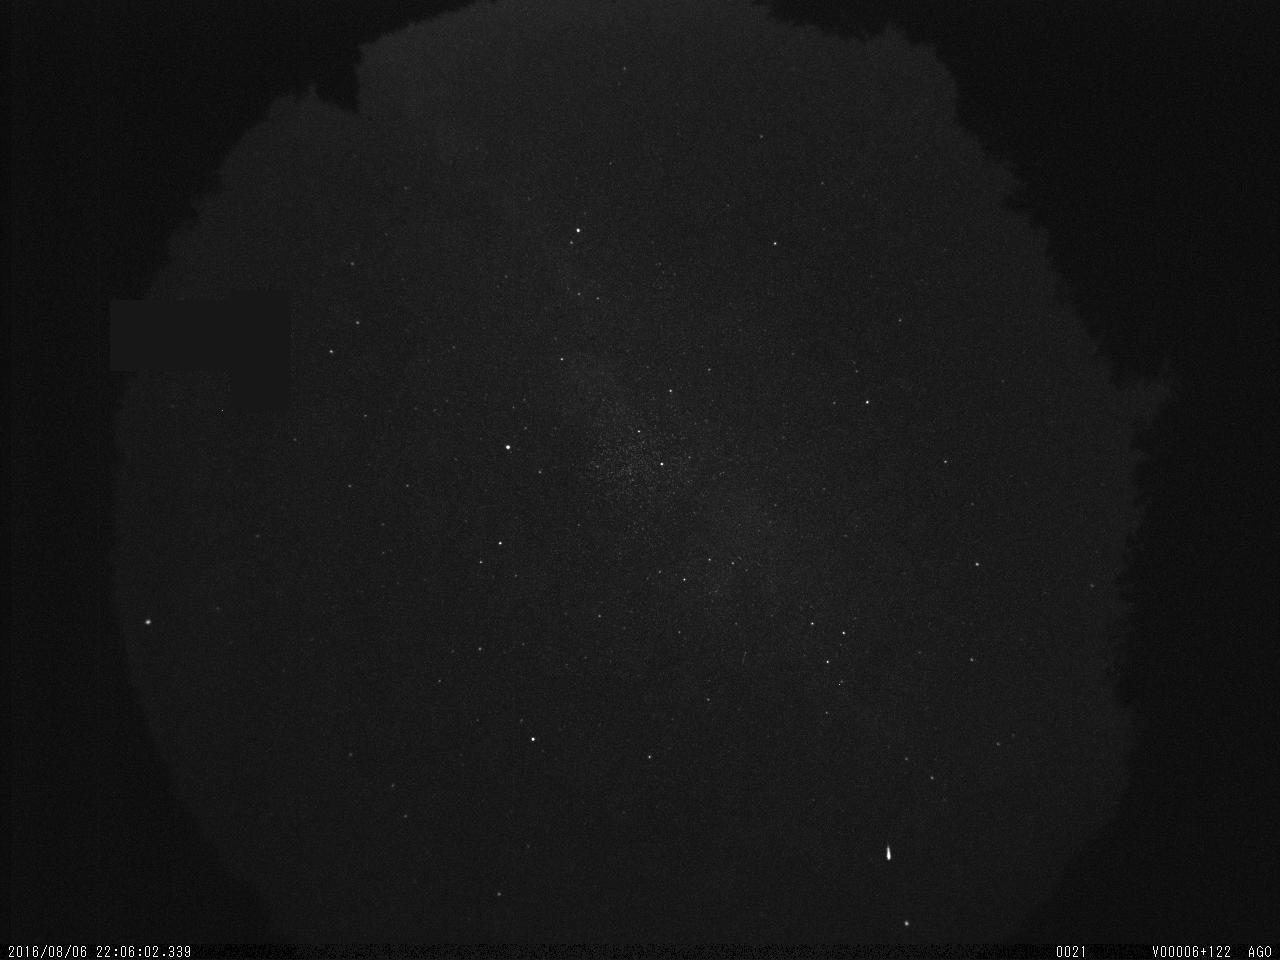meteor: (881, 838, 899, 868)
